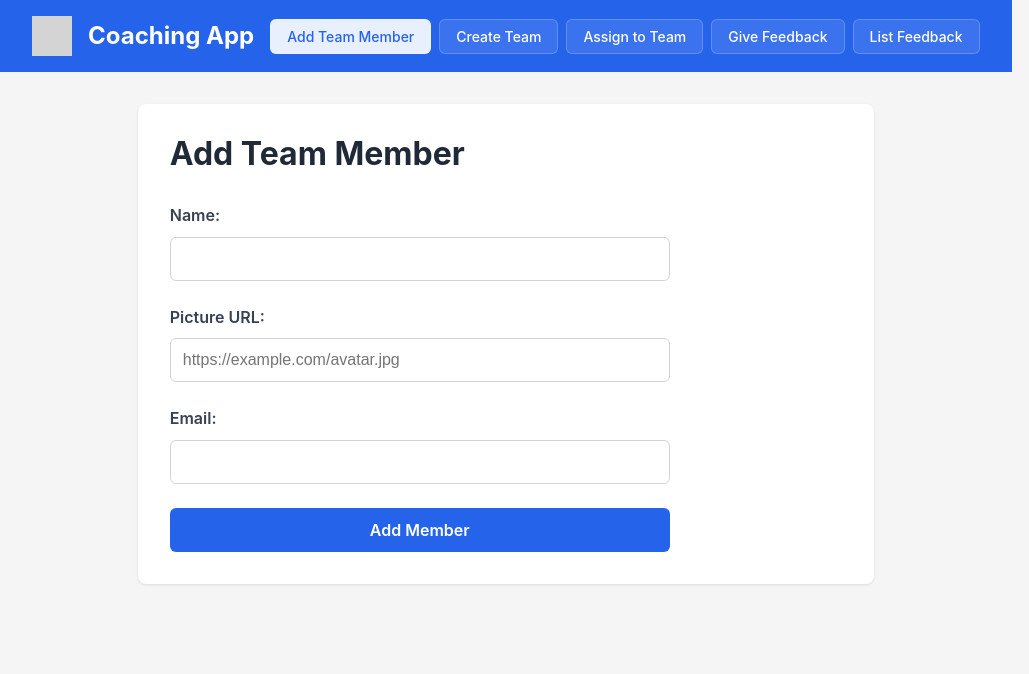
Test: App › should provide AppProvider context to all pages
Type "John Doe" into the field labelled "Name:" at (420, 259), box [170,237,670,281]
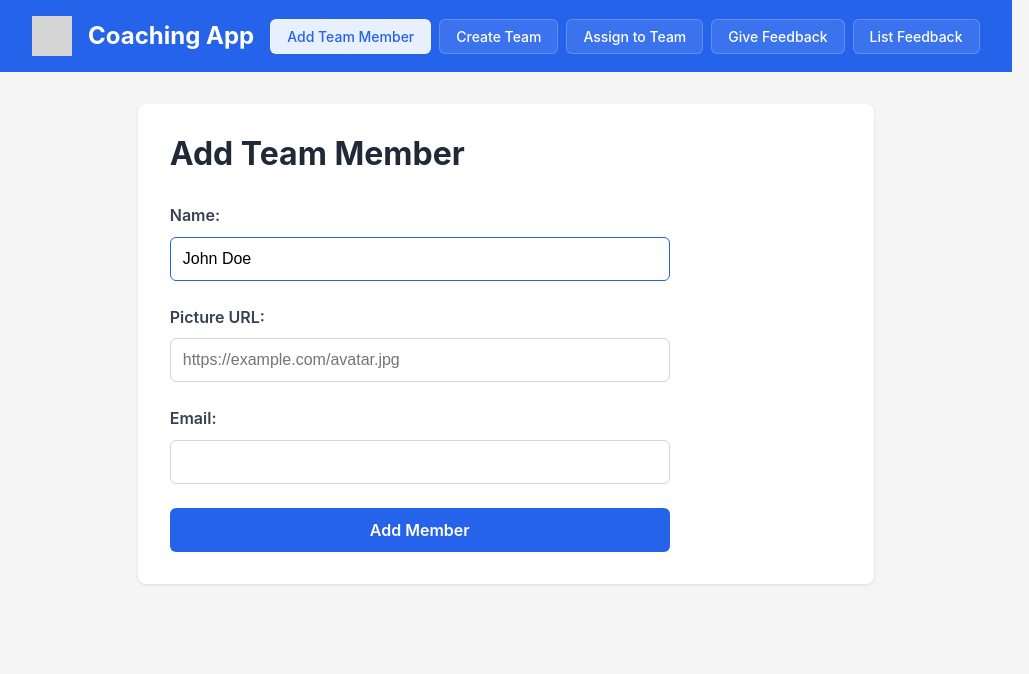
Type "john@example.com" into the field labelled "Email:" at (420, 462), box [170,440,670,484]
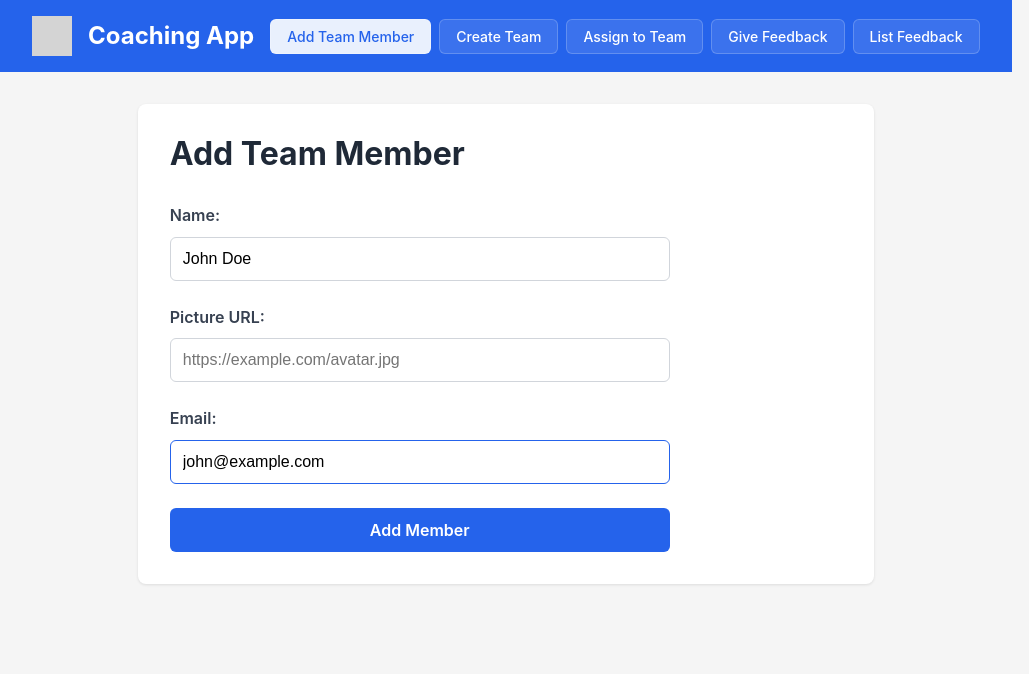
Click the button "Add Member" at (420, 530), box [170,508,670,552]
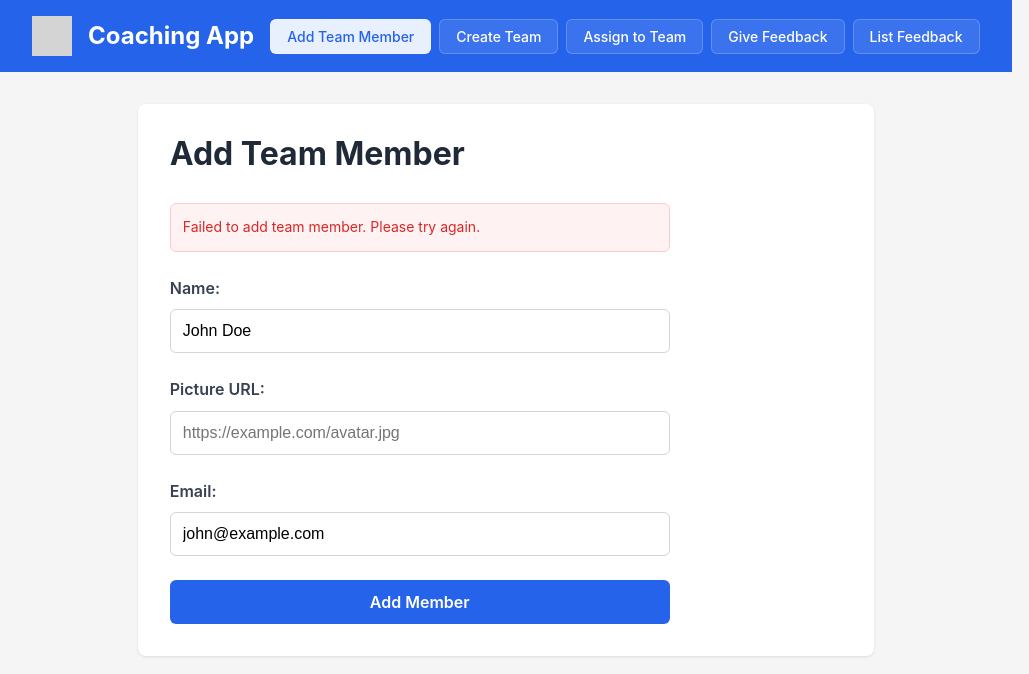
Click the button "Assign to Team" at (635, 36), box [566,18,703,54]
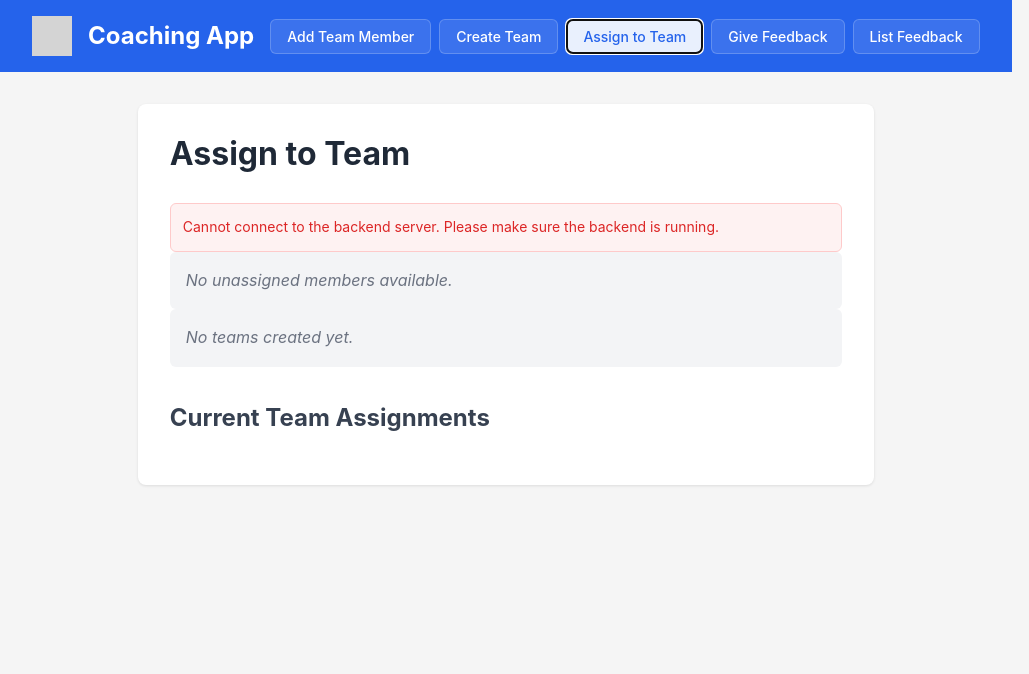
Now the heading "Current Team Assignments" is shown, box [170,403,490,432]
